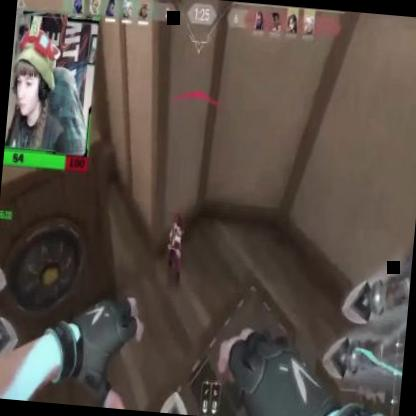enemy: (160, 212, 188, 284)
enemy_head: (172, 215, 180, 232)
